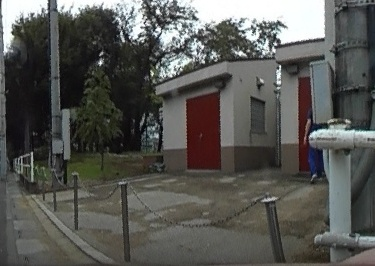person: (305, 102, 327, 180)
